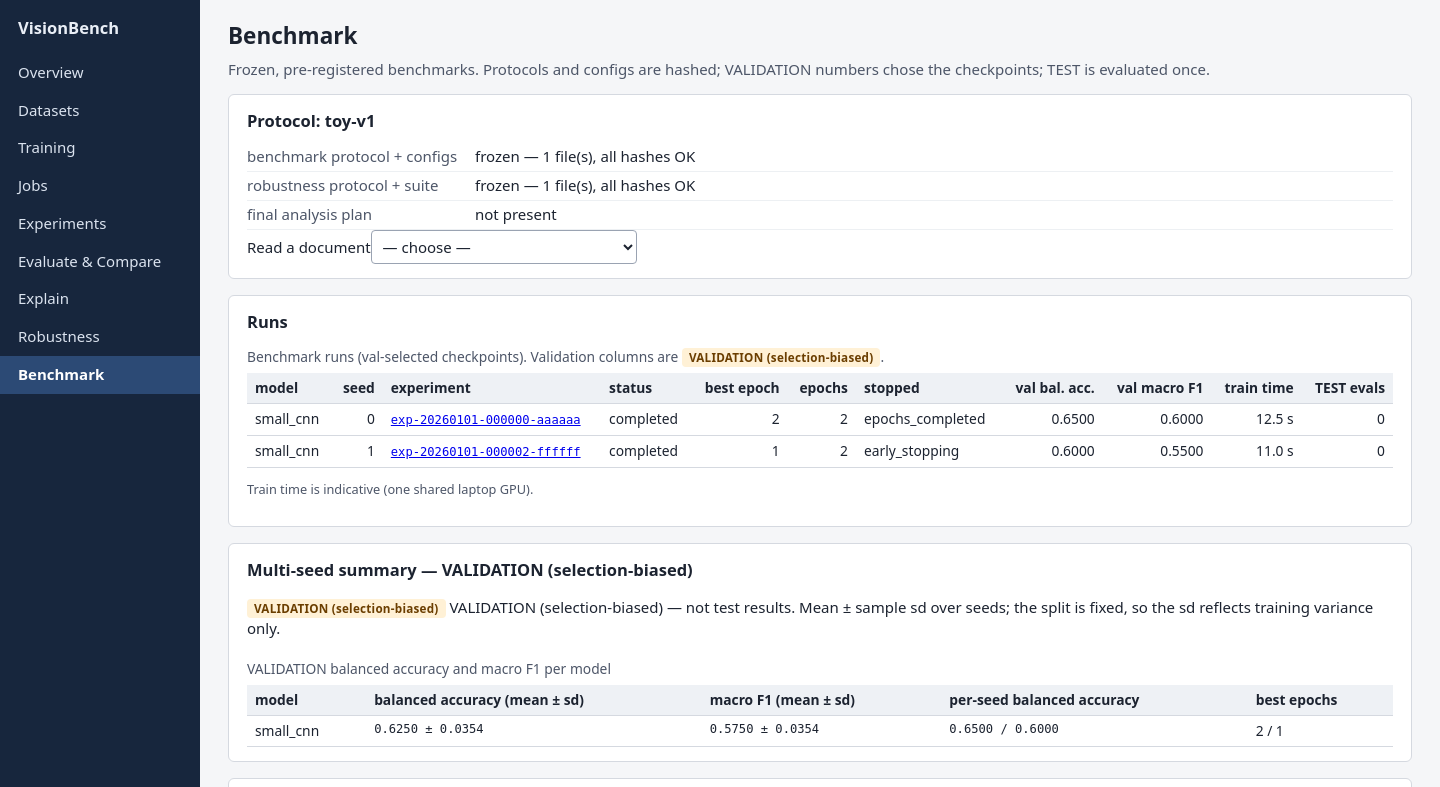
Test case: Benchmark › shows hashes, runs, the VALIDATION summary and no TEST results yet
Expected: the heading "Protocol: toy-v1" is shown, [247,109,375,132]
Expected: the text "frozen — 1 file(s), all hashes OK" is shown 2 times, [475,146,695,166]; [475,175,695,195]
Select "Benchmark protocol" in the dropdown labelled "Read a document": (504, 246) [371,230,637,264]
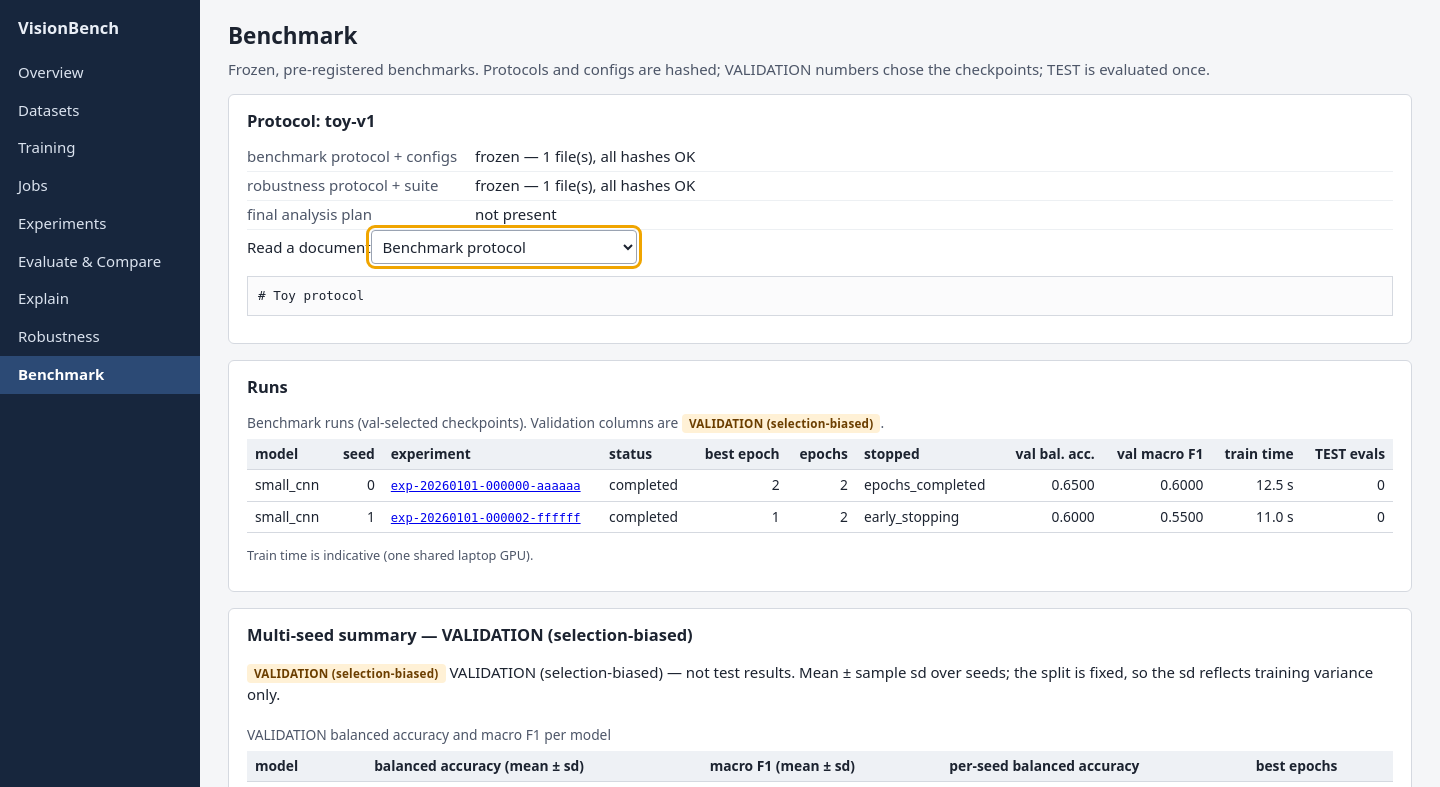
Result: the text "# Toy protocol" is shown at [247,276,1393,316]
